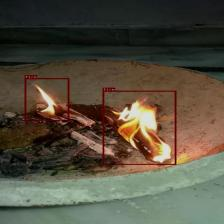fire: (102, 91, 176, 164), (24, 78, 69, 121)
